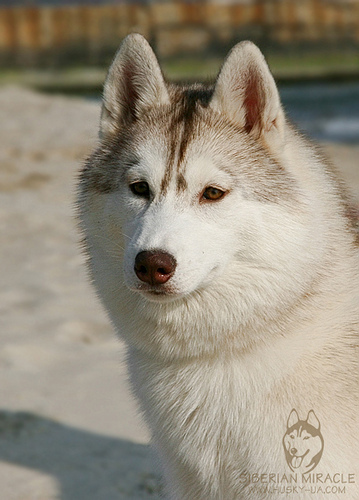dog: (62, 31, 357, 497)
